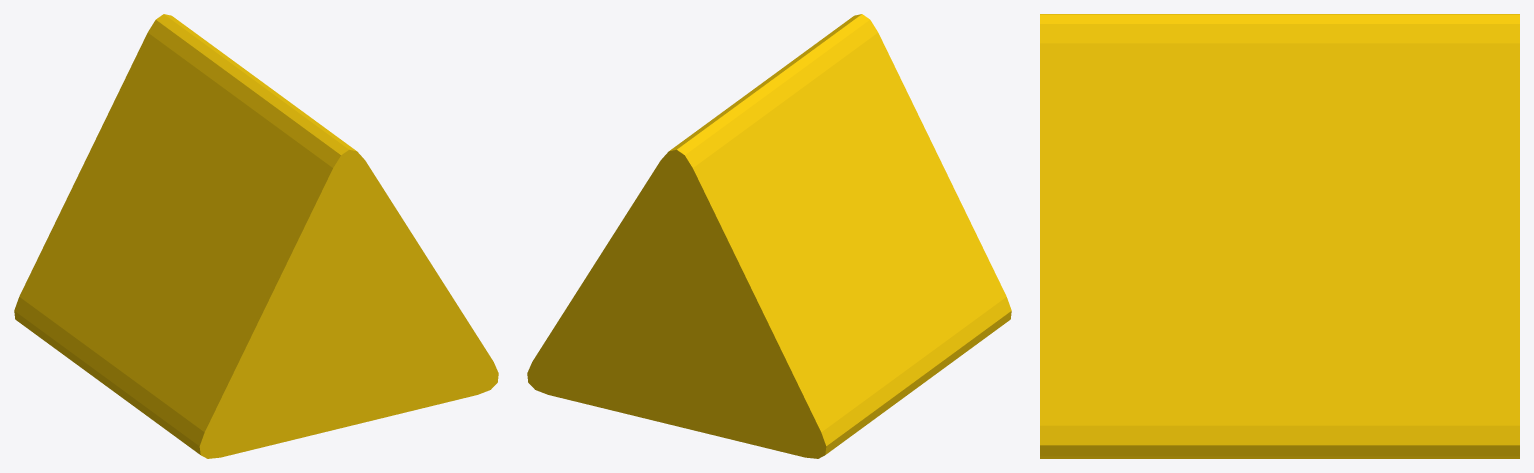
The model's file is block_yellow_triangular_prism.obj.
3 renders of one model, left to right at view 1: azimuth 30°, elevation 25°; view 2: azimuth 150°, elevation 25°; view 3: azimuth 270°, elevation 25°, orthographic. The views are drawn at different scales.
Visible parts, largest first — view 1: block_yellow_triangular_prism; view 2: block_yellow_triangular_prism; view 3: block_yellow_triangular_prism.
Boxes of the visible parts, x1,y1,x2,y2 form: block_yellow_triangular_prism: [14, 14, 498, 458]; block_yellow_triangular_prism: [527, 14, 1011, 458]; block_yellow_triangular_prism: [1040, 14, 1519, 458].
Bounding box in the file's own units: 0.0373 × 0.0329 × 0.04.
